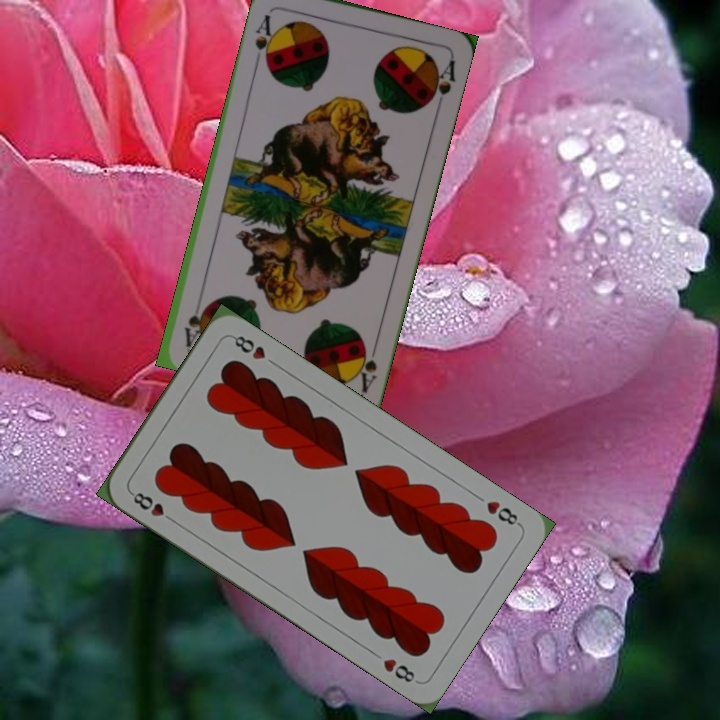H8: (126, 487, 179, 526), (482, 496, 524, 529)
SA: (352, 335, 381, 394), (251, 10, 279, 67)
